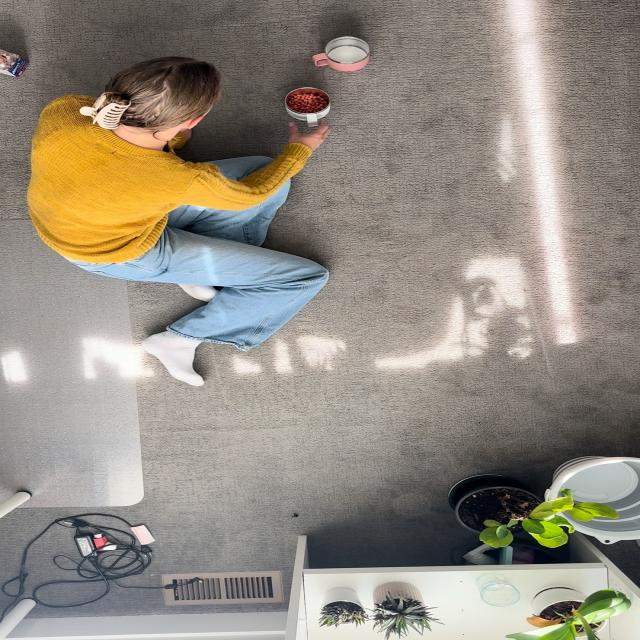IBC: (312, 37, 369, 72), (285, 87, 330, 127)
